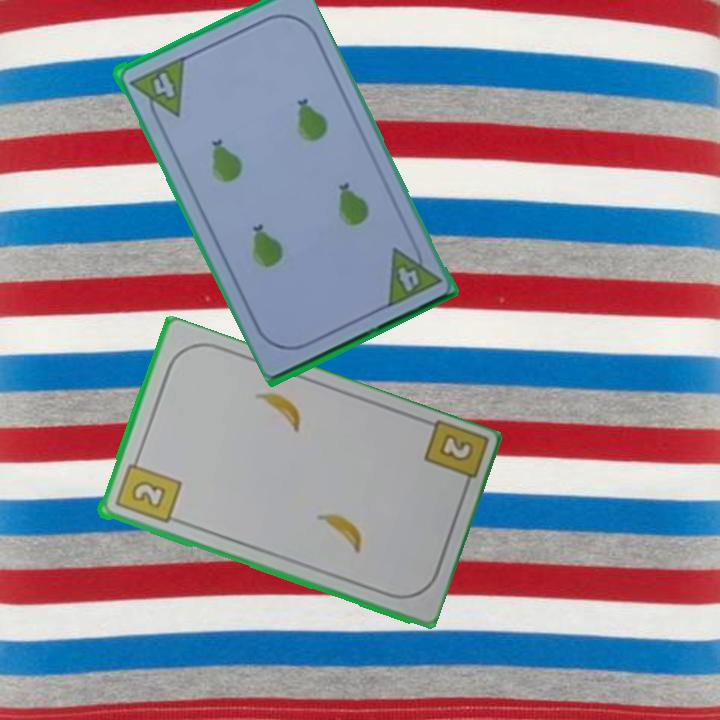2b: (111, 452, 183, 527), (435, 430, 476, 465)
4p: (125, 53, 187, 127), (383, 235, 444, 310)
